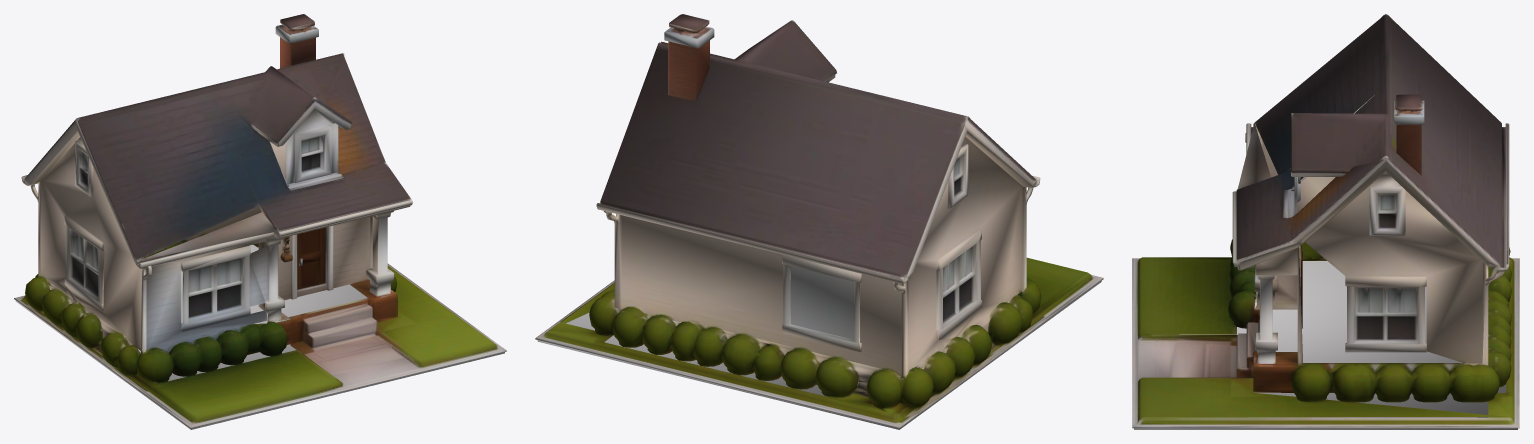
The model's file is Outdoor__suburban_house_8766d2c3_v1.cluster.glb.
3 renders of one model, left to right at view 1: azimuth 30°, elevation 25°; view 2: azimuth 150°, elevation 25°; view 3: azimuth 270°, elevation 25°, orthographic. The views are drawn at different scales.
Parts seen in each view (by area): view 1: material; view 2: material; view 3: material.
Boxes of the visible parts, x1,y1,x2,y2 form: material: [14, 14, 506, 429]; material: [535, 14, 1103, 429]; material: [1132, 14, 1519, 429].
Bounding box in the file's own units: 1.9 × 1.47 × 1.81.
1 material, 1 textured.
